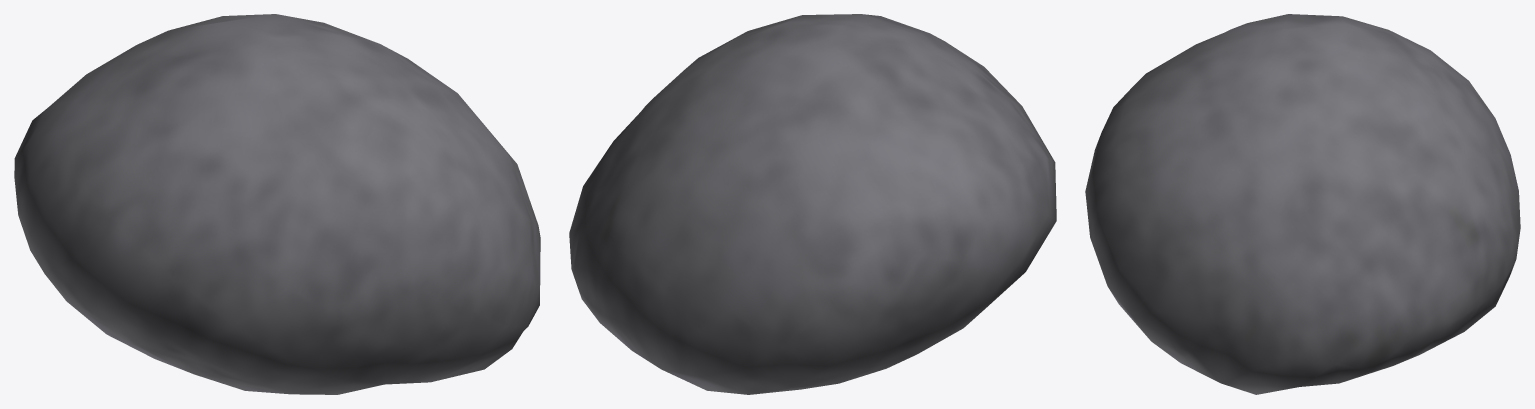
Rendered from frl_apartment_beanbag.glb.
3 views of the same model, side by side, from view 1: azimuth 30°, elevation 25°; view 2: azimuth 150°, elevation 25°; view 3: azimuth 270°, elevation 25° (orthographic). The views are drawn at different scales.
Parts seen in each view (by area): view 1: frl_apartment_beanbag; view 2: frl_apartment_beanbag; view 3: frl_apartment_beanbag.
Part boxes in pixels (x1=…): frl_apartment_beanbag: x1=14, y1=14, x2=540, y2=394; frl_apartment_beanbag: x1=569, y1=14, x2=1056, y2=394; frl_apartment_beanbag: x1=1085, y1=14, x2=1520, y2=394.
Size of the model in its own units: 1.09 by 0.7514 by 1.04.
1 material, 1 textured.
